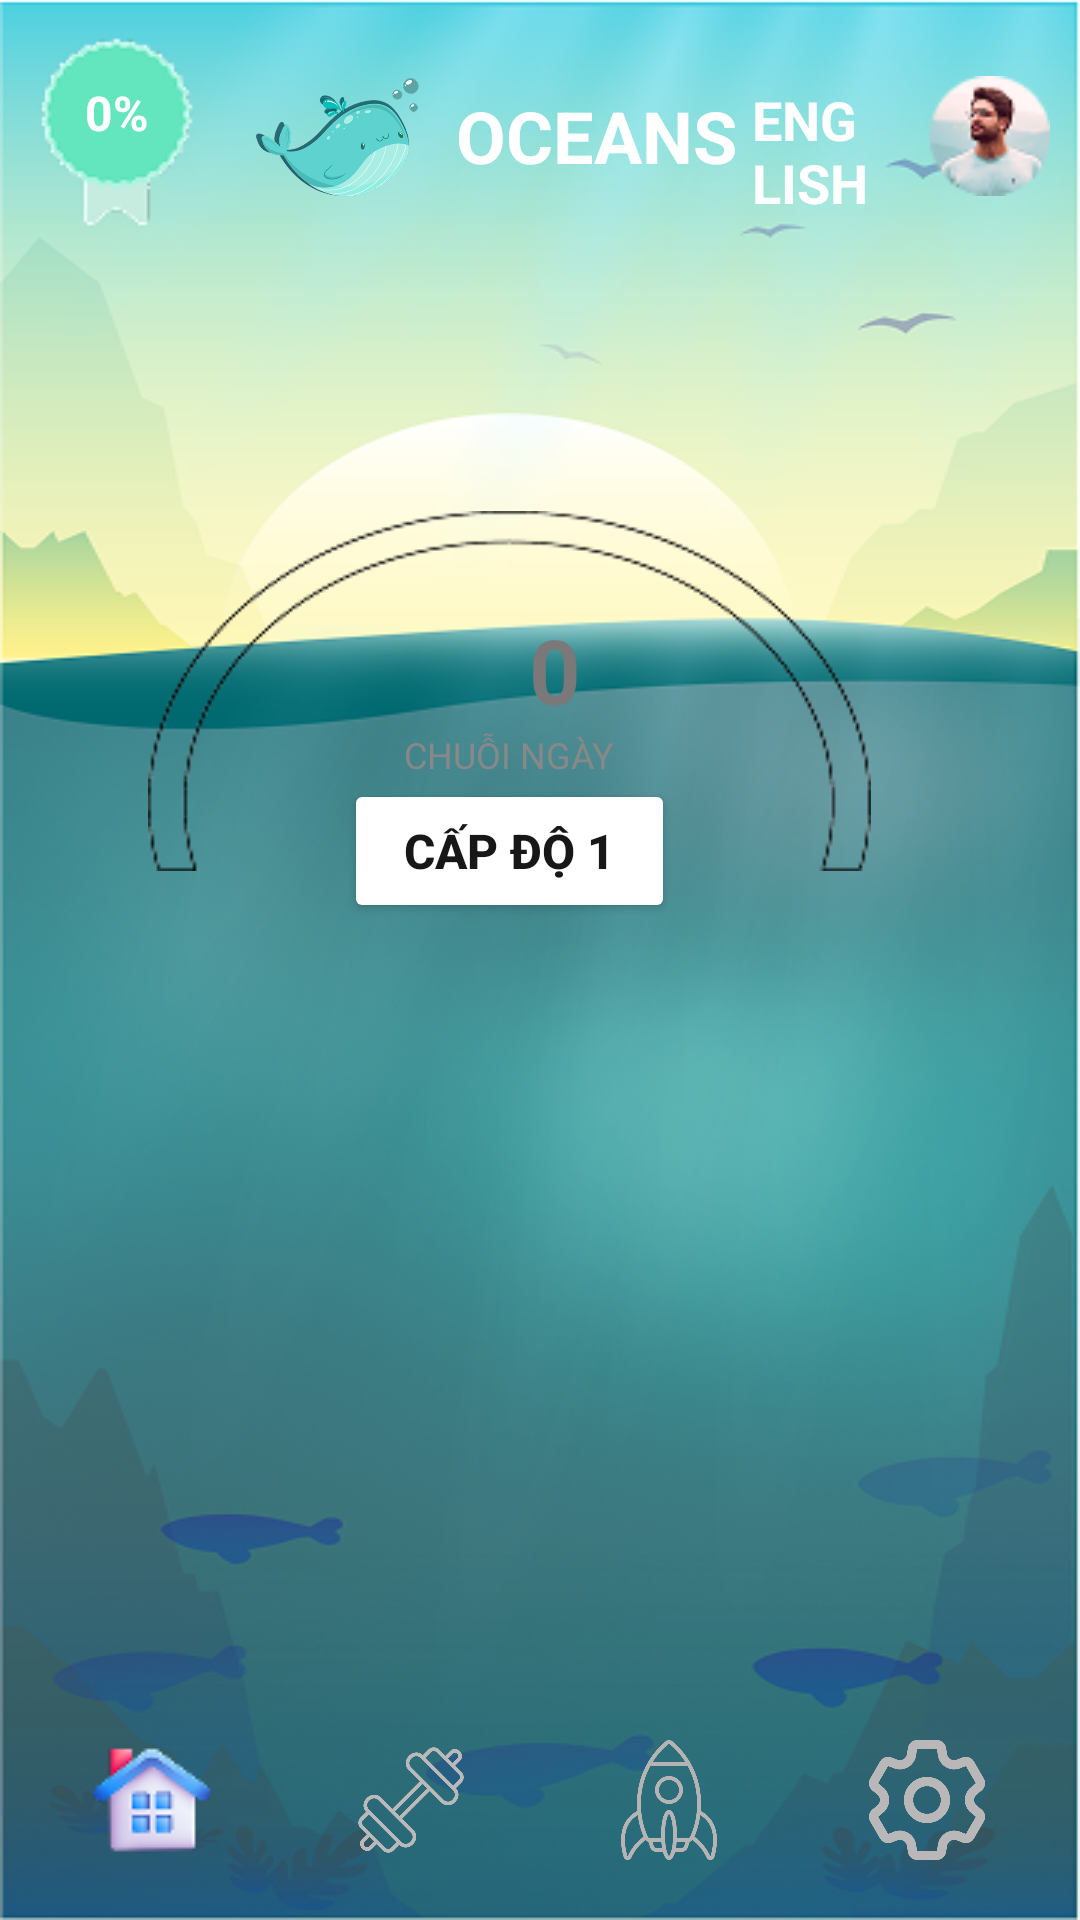

Point at icon controls on the screen. Image size 1080px×1920px, points as [x,y].
Cài đặt: [912,1818]
User Avatar: [990,136]
Whale Icon: [342,136]
